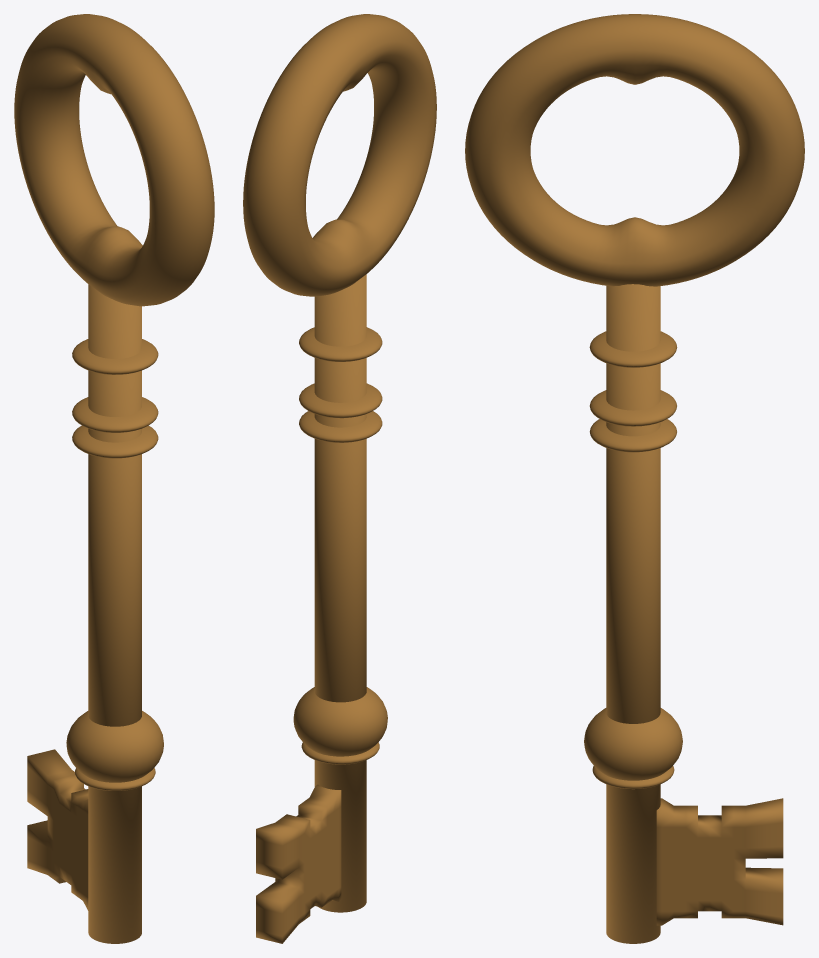
Rendered from key2.gltf.
3 views of the same model, side by side, from view 1: azimuth 30°, elevation 25°; view 2: azimuth 150°, elevation 25°; view 3: azimuth 270°, elevation 25° (orthographic). The views are drawn at different scales.
Visible parts, largest first — view 1: トーラス; view 2: トーラス; view 3: トーラス.
Part boxes in pixels (x1,y1,x2,y2): トーラス: (14,14,214,943); トーラス: (243,14,436,943); トーラス: (465,14,804,943).
Bounding box in the file's own units: 0.72 × 7.34 × 2.47.
